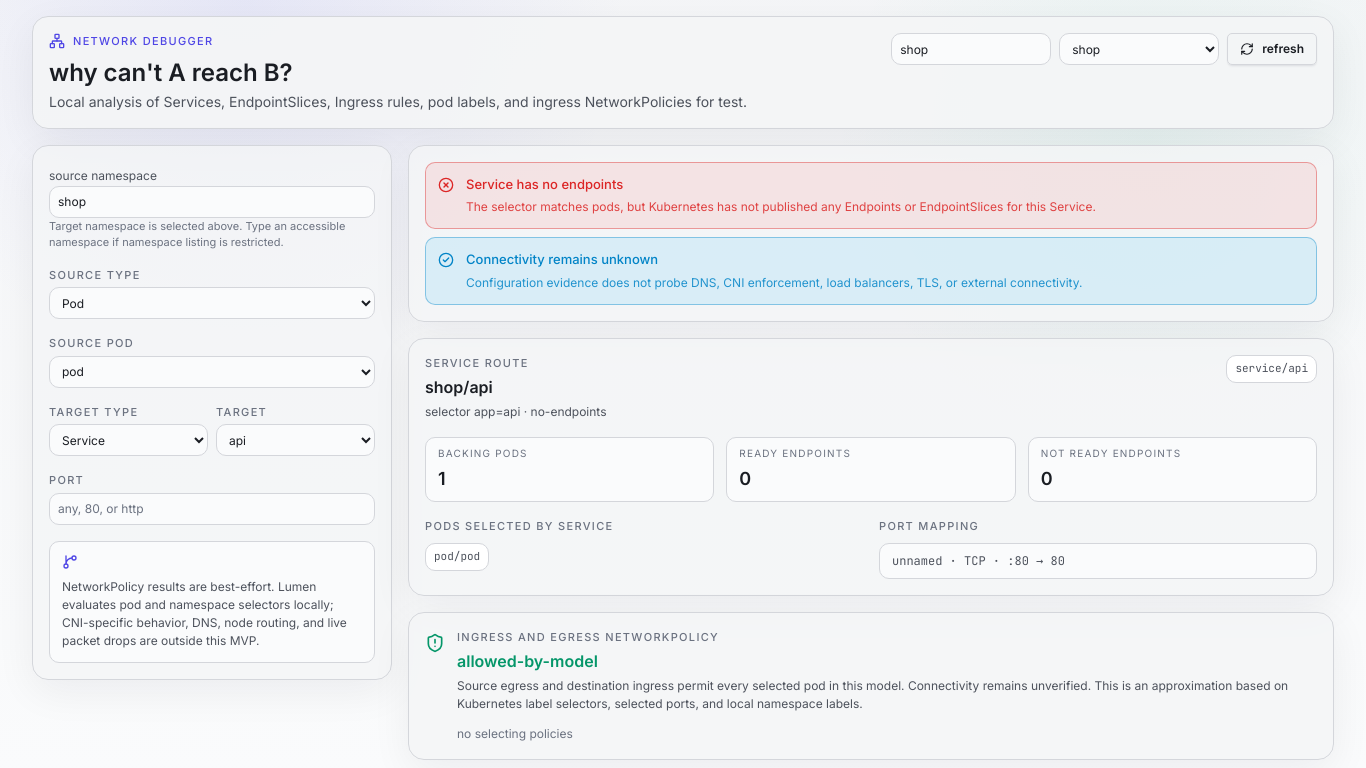
Test: NetworkDebuggerView › invalidates source policy certainty when a refetch fails with cached data
Expected: the text "Connectivity remains unknown" is shown, [466,251,658,267]
Replace the text in the field labelled "source namespace" with "client": (212, 202) [49,186,375,218]
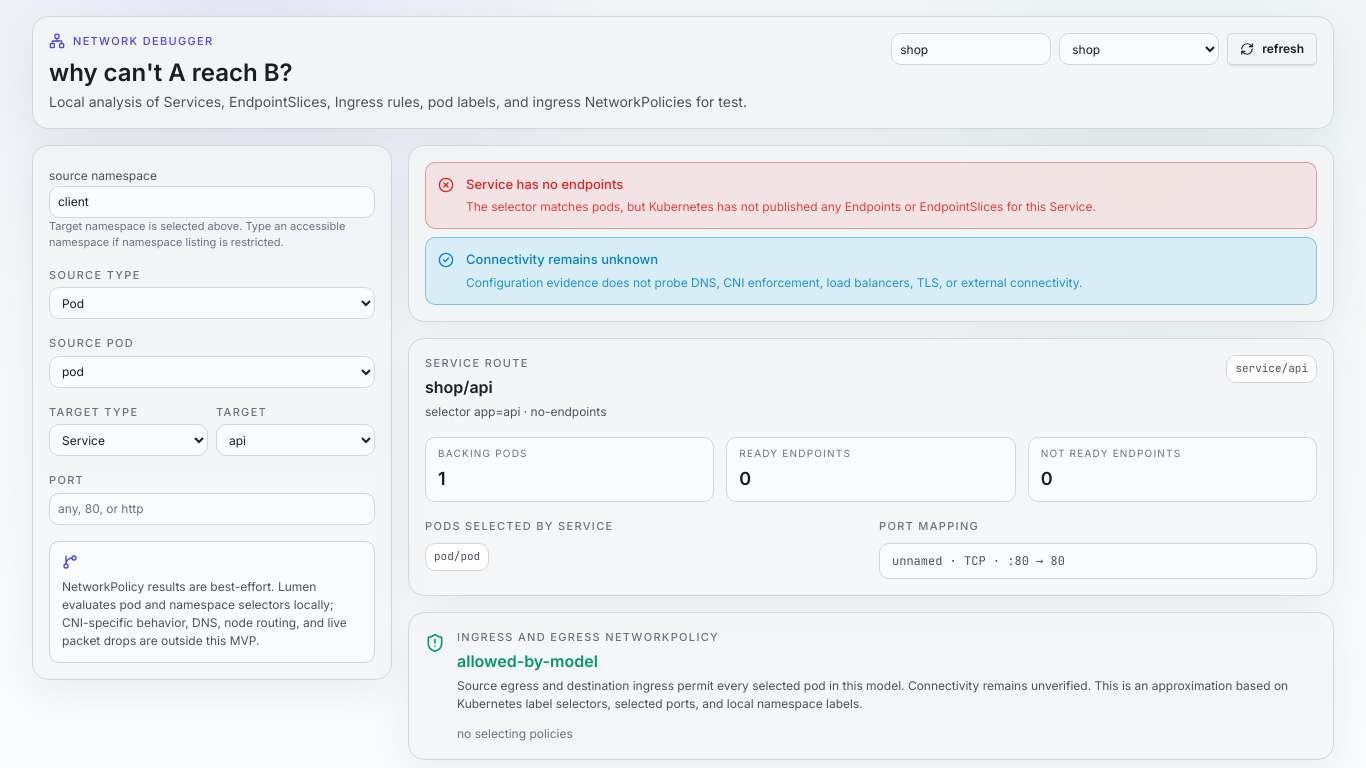
Expected: the heading "allowed-by-model" is shown, [457,651,598,671]
Click the button "refresh": (1272, 49) [1227,33,1317,65]
(page scrolled)
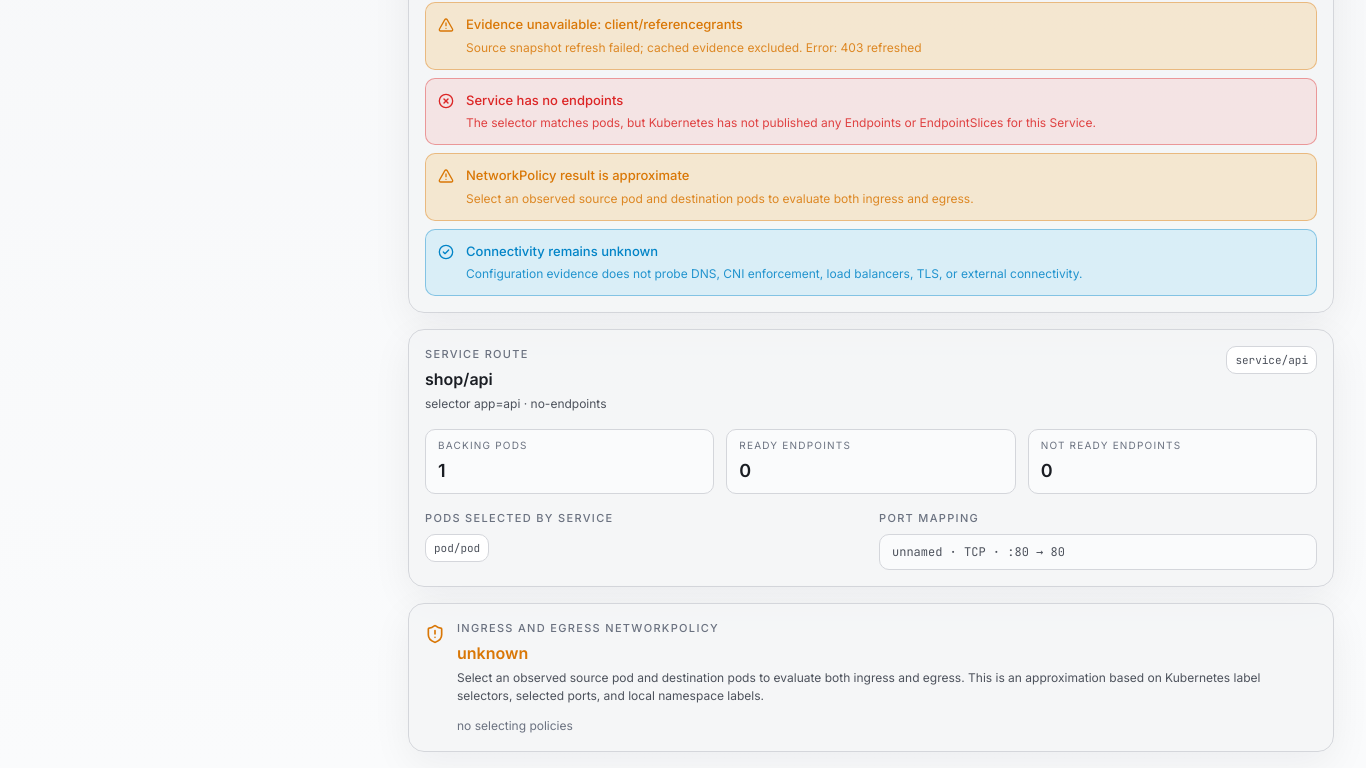
Result: the heading "unknown" is shown at [457,642,528,662]
